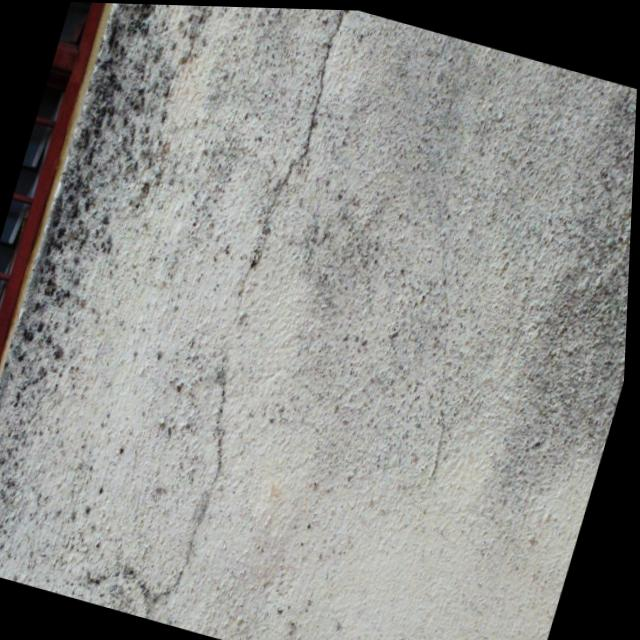Crack: (103, 3, 370, 625)
